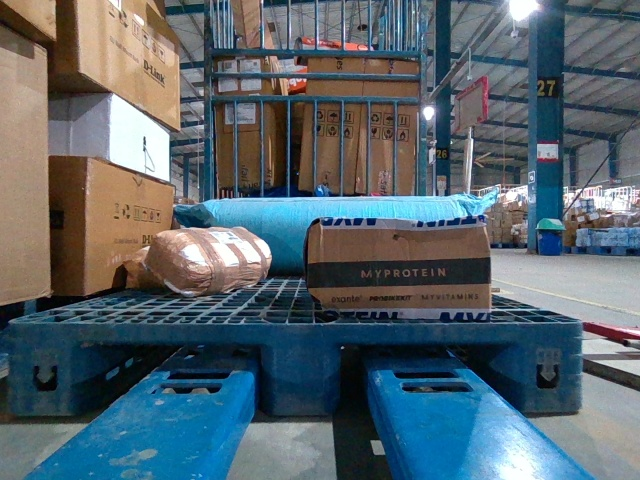block: (8, 322, 96, 420), (269, 321, 344, 414), (517, 322, 582, 411)
front: (9, 322, 582, 416)
hole pallet: (80, 342, 264, 418), (343, 342, 519, 414)
